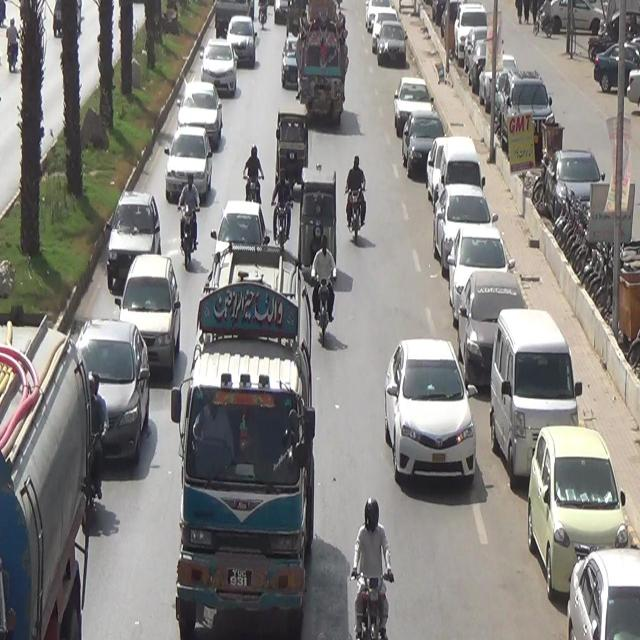car: (379, 347, 479, 484), (116, 255, 182, 369), (106, 184, 165, 284), (214, 197, 275, 270), (160, 130, 210, 208), (180, 78, 223, 145), (228, 17, 258, 76), (207, 38, 234, 98)
motorbike: (349, 491, 395, 640), (312, 228, 340, 348), (339, 147, 368, 248), (179, 184, 208, 284), (244, 140, 266, 207)
truck: (184, 243, 315, 640), (0, 305, 100, 640)
